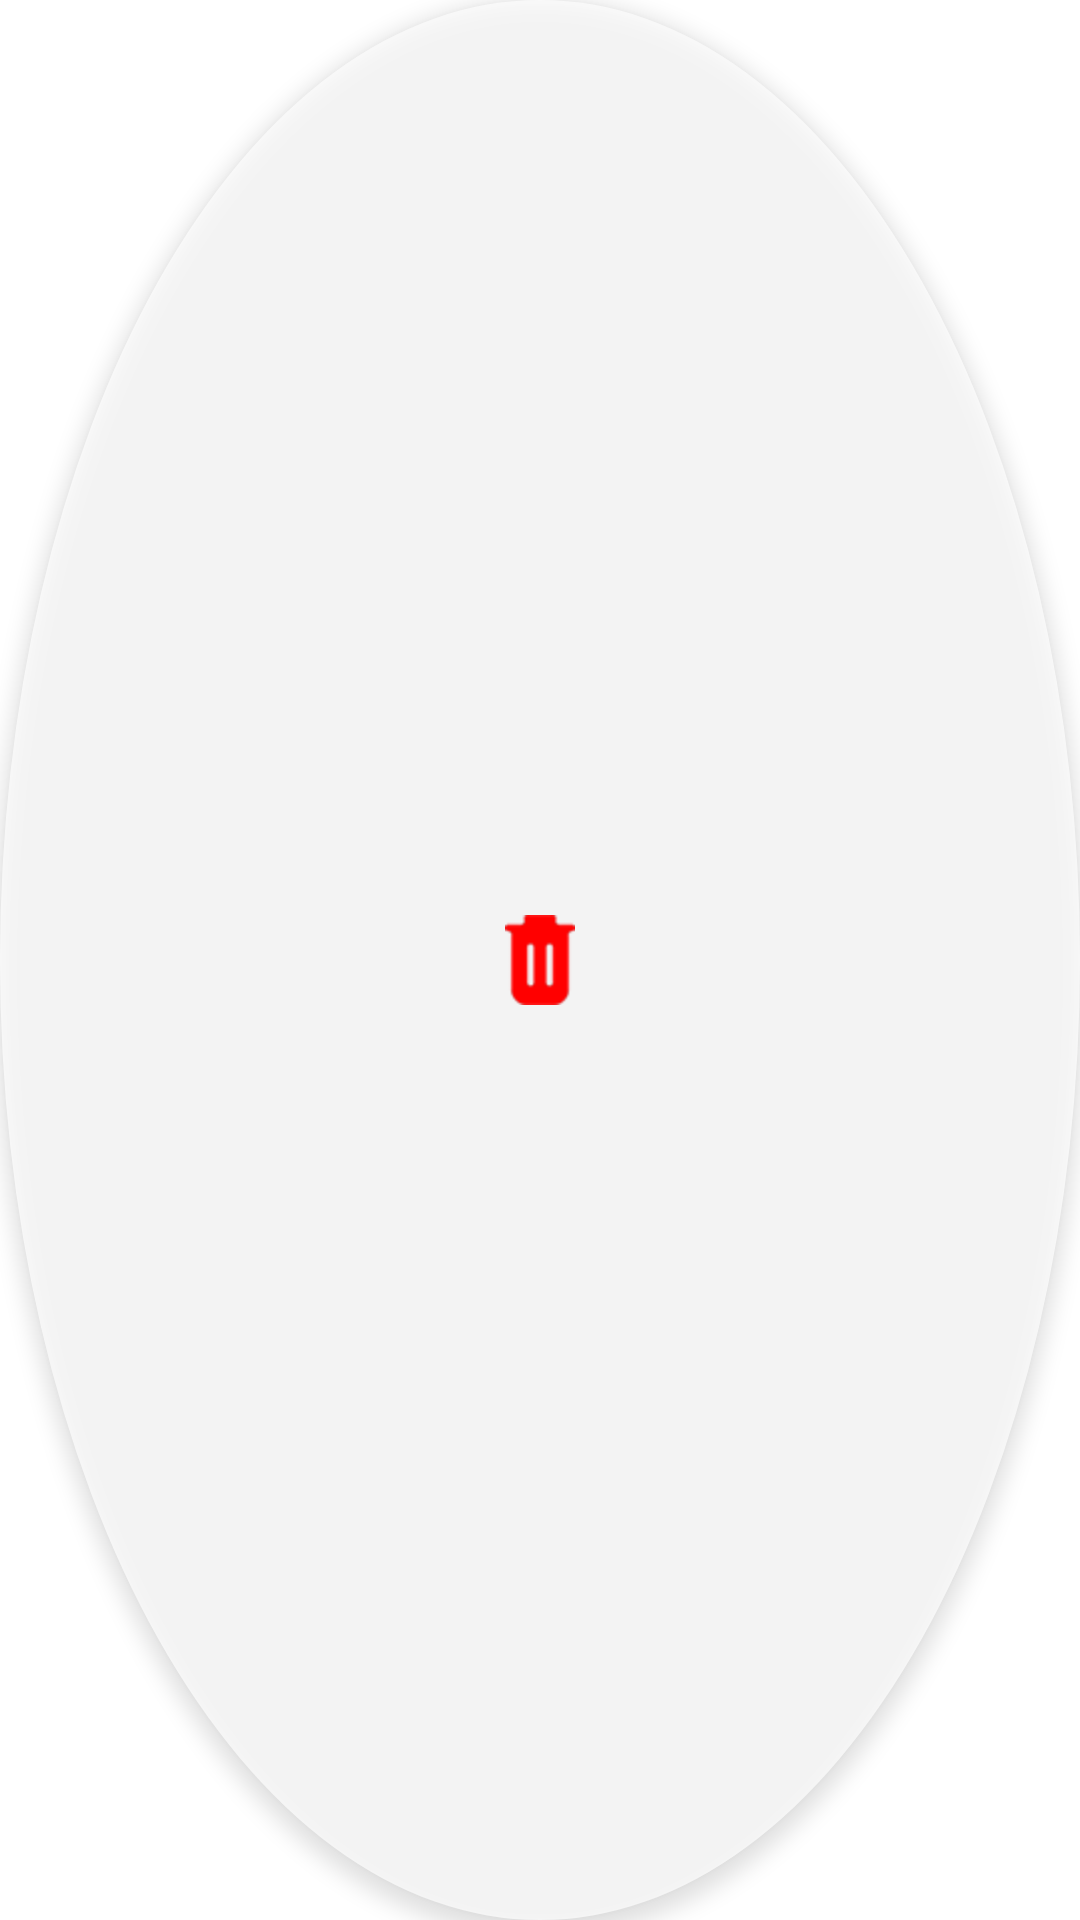

Icons on this 1080×1920 Android screen, each with the point to tap as point (x, y):
remove: point (540, 960)
